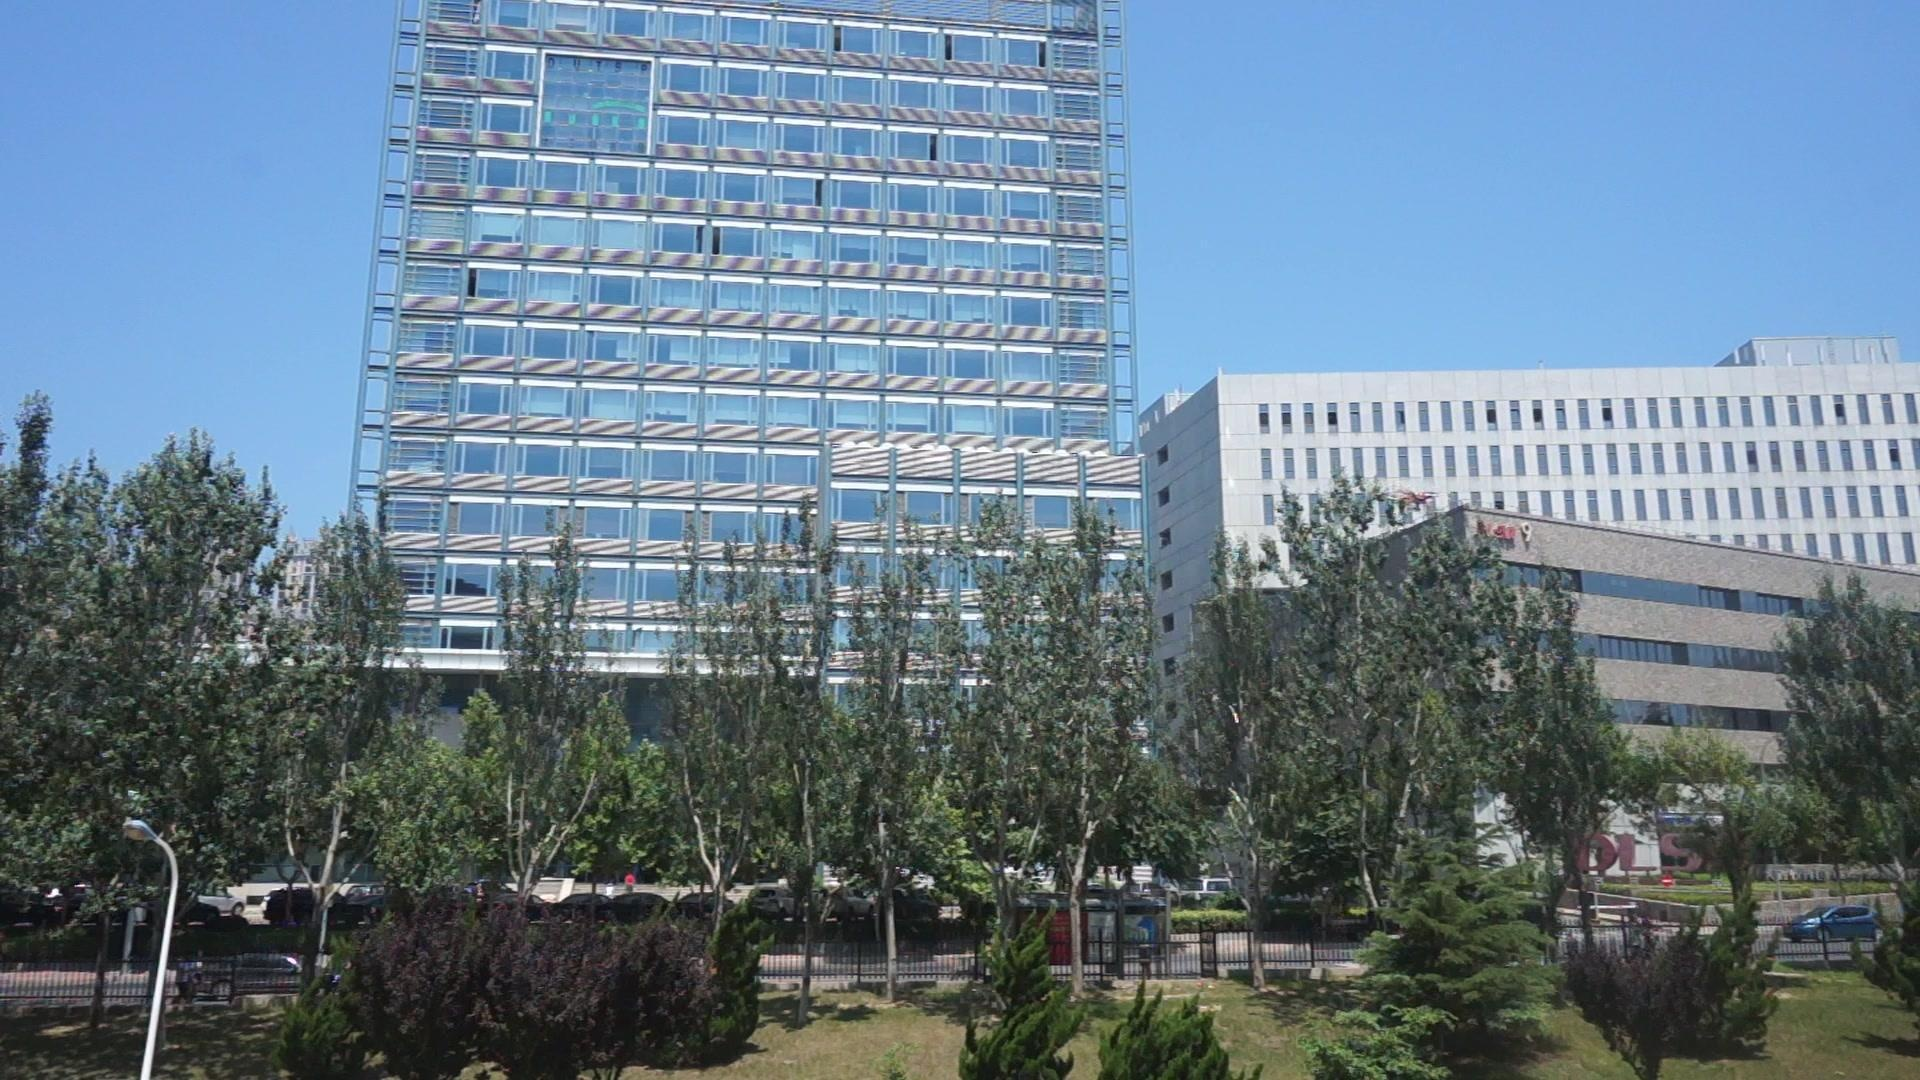UAV: (1396, 489, 1441, 513)
